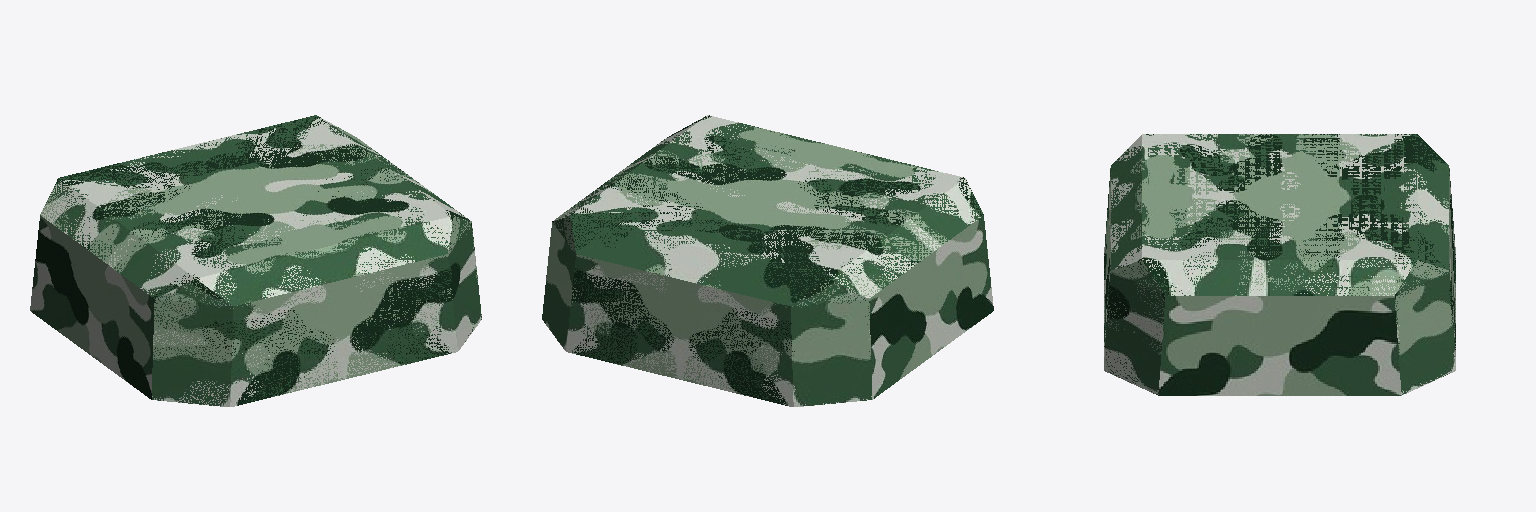
3 renders of one model, left to right at view 1: azimuth 30°, elevation 25°; view 2: azimuth 150°, elevation 25°; view 3: azimuth 270°, elevation 25°, orthographic.
Parts seen in each view (by area): view 1: turela; view 2: turela; view 3: turela.
Part boxes in pixels (x1,y1,x2,y2): turela: (30,115,481,406); turela: (542,115,993,406); turela: (1104,134,1455,395).
Bounding box in the file's own units: 0.7516 × 0.257 × 0.6949.
Materials: 1 (1 with a texture image).